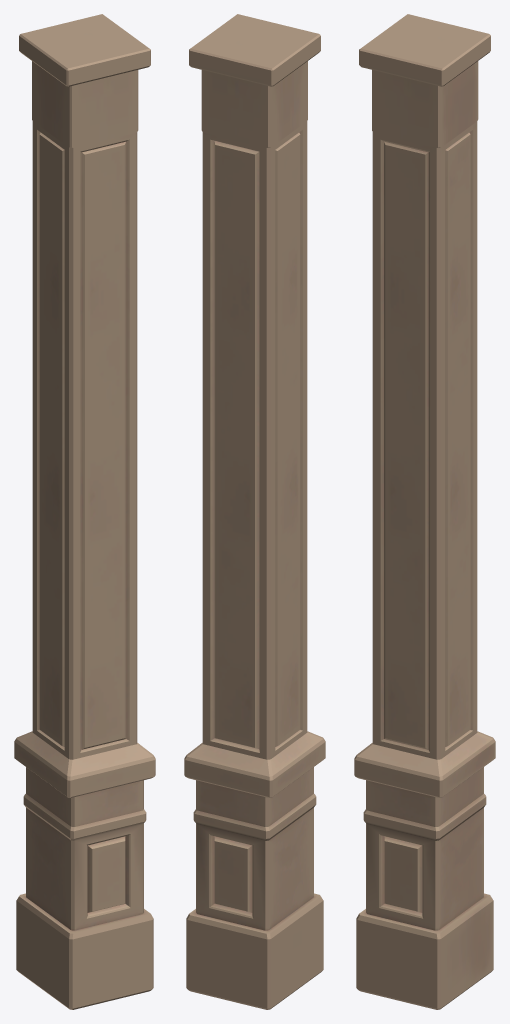
The model's file is ColumnFull.fbx.
3 views of the same model, side by side, from view 1: azimuth 30°, elevation 25°; view 2: azimuth 150°, elevation 25°; view 3: azimuth 330°, elevation 25° (orthographic).
Parts seen in each view (by area): view 1: column2Middle1, ColumnFull (14), column2Top; view 2: column2Middle1, ColumnFull (14), column2Top; view 3: column2Middle1, ColumnFull (14), column2Top.
Part boxes in pixels (box(x1,y1,x2,y2)): column2Middle1: box(32, 121, 137, 759); ColumnFull (14): box(14, 731, 155, 1009); column2Top: box(19, 14, 150, 147); column2Middle1: box(202, 121, 307, 759); ColumnFull (14): box(184, 731, 325, 1009); column2Top: box(189, 14, 320, 147); column2Middle1: box(372, 121, 477, 759); ColumnFull (14): box(354, 731, 495, 1009); column2Top: box(359, 14, 490, 147).
Bounding box in the file's own units: 2.96 × 29.95 × 3.19.
